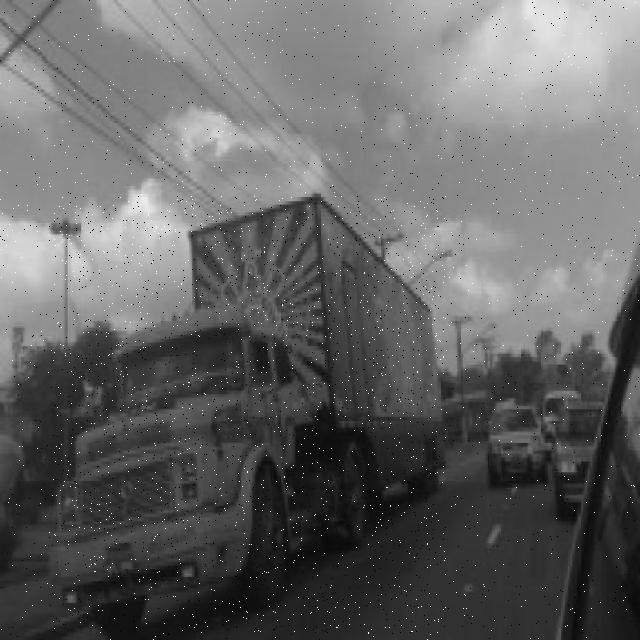Box Truck: (53, 196, 446, 634)
